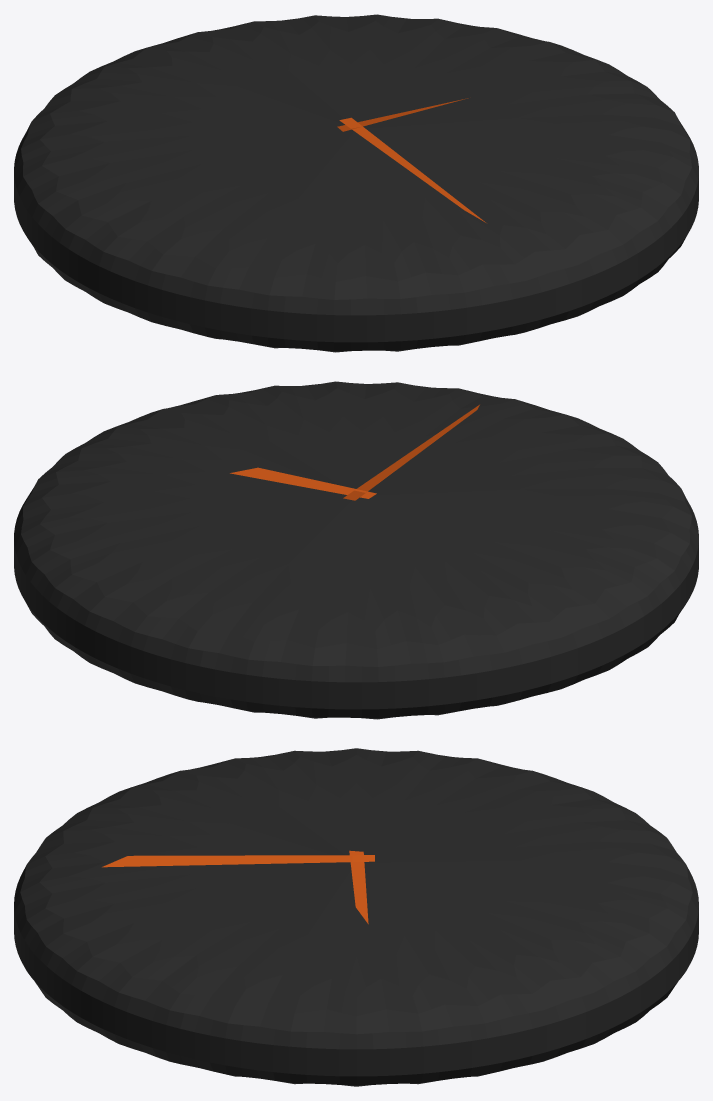
Rendered from relogio.fbx.
The picture shows the model from 3 angles, top to bottom: view 1: azimuth 30°, elevation 25°; view 2: azimuth 150°, elevation 25°; view 3: azimuth 270°, elevation 25°; orthographic projection.
Visible parts, largest first — view 1: Circle, Plane; view 2: Circle, Plane.001, Plane; view 3: Circle, Plane, Plane.001.
Part boxes in pixels (x1,y1,x2,y2): Circle: (14,14,698,352); Plane: (339,117,485,222); Circle: (14,381,698,719); Plane.001: (230,467,376,498); Plane: (343,404,479,500); Circle: (14,748,698,1086); Plane: (102,855,374,867); Plane.001: (349,850,368,924).
Size of the model in its own units: 1358 by 243 by 1358.
